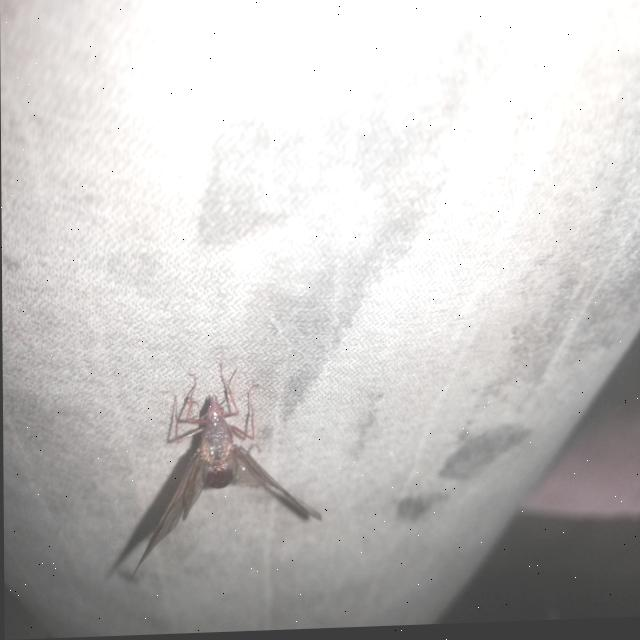Alive-Male-Alate: (128, 362, 321, 583)
